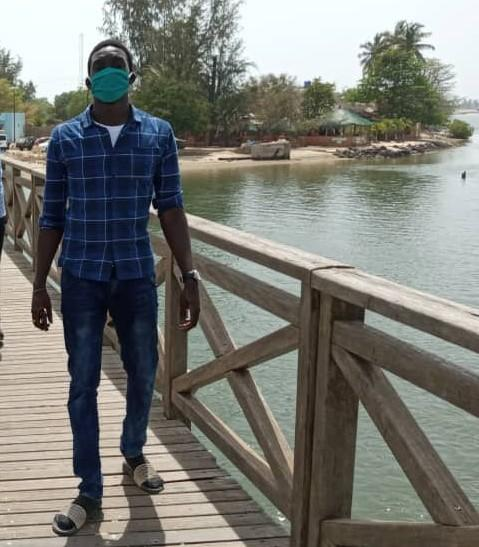Wearing Mask: (64, 20, 152, 130)
